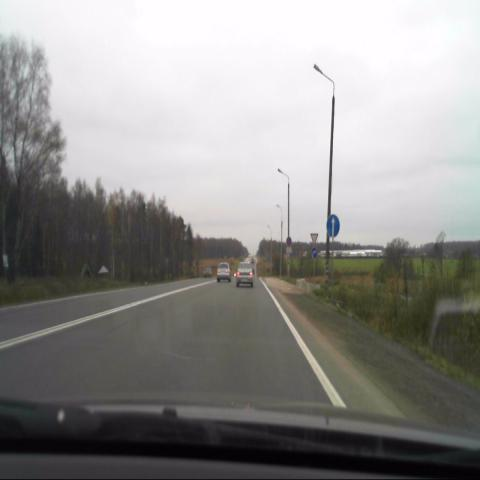4_1_1: (326, 214, 340, 239)
